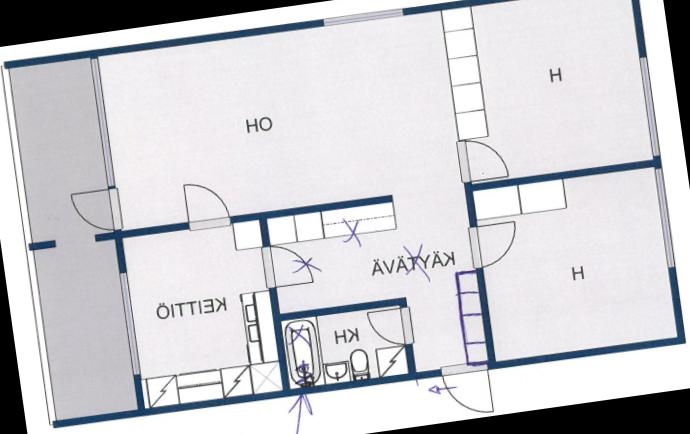door: (436, 358, 498, 422), (254, 241, 318, 291), (453, 132, 512, 185), (179, 176, 234, 231), (70, 187, 127, 239), (465, 218, 522, 270), (366, 304, 419, 350)
window: (88, 52, 118, 190), (650, 164, 680, 273), (636, 54, 666, 160), (116, 268, 143, 380), (315, 4, 409, 33)
